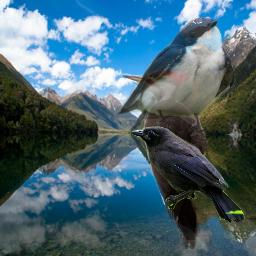Crow: (130, 126, 245, 224)
Swallow: (116, 17, 236, 137)
Woodpecker: (118, 70, 213, 249)
